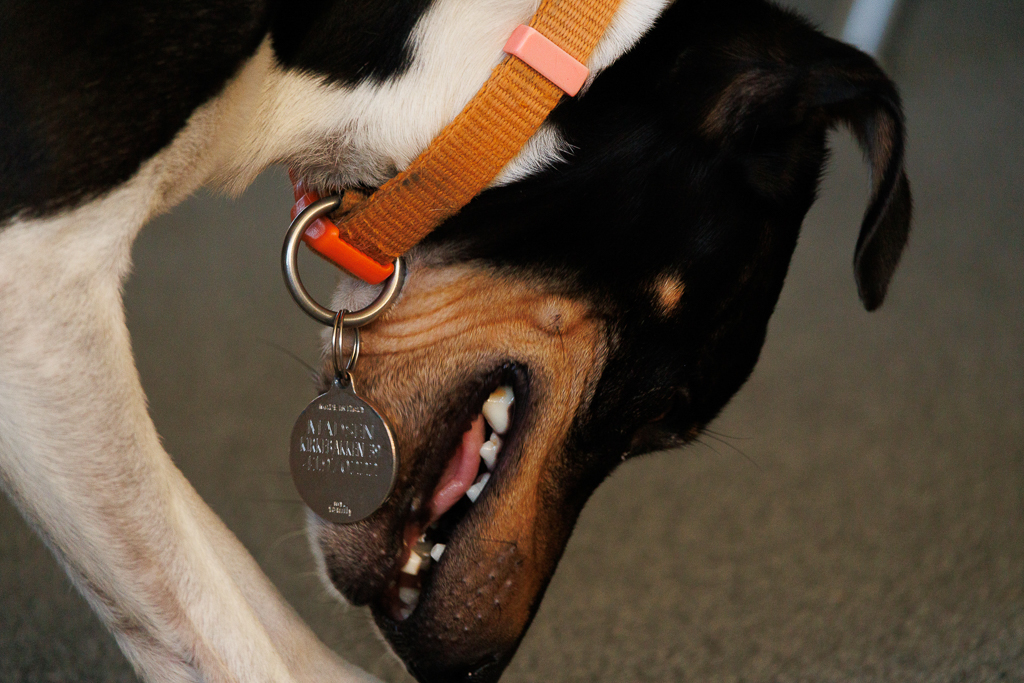Dog: (0, 0, 927, 683)
